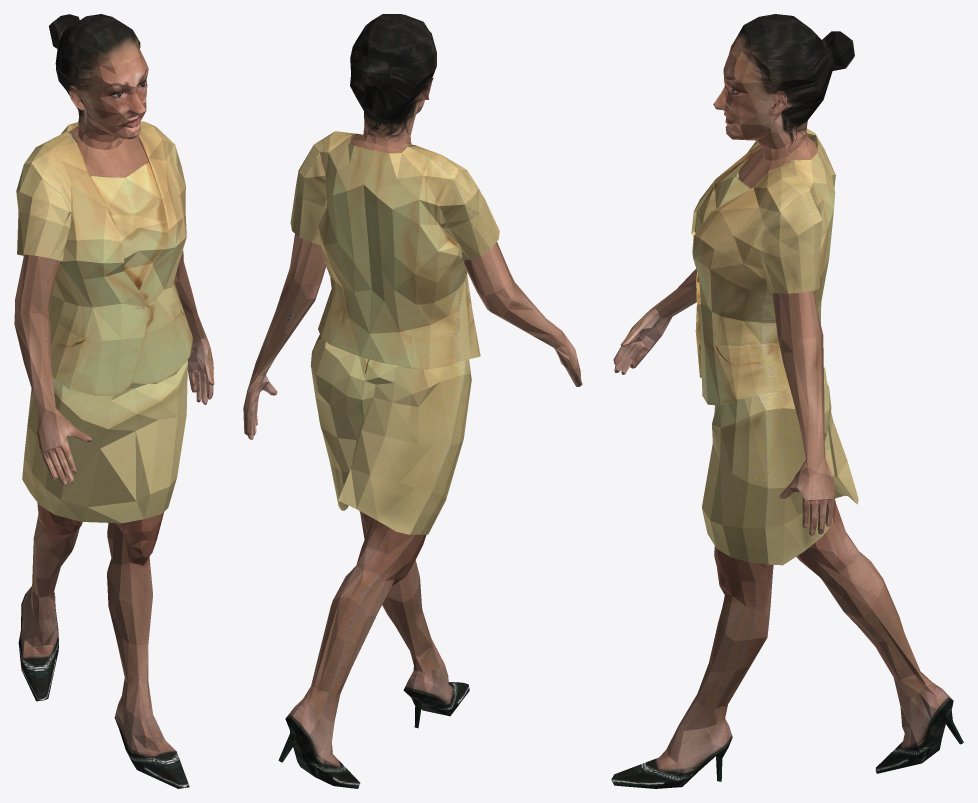
File: woman_yellow_dress.dae
3 views of the same model, side by side, from view 1: azimuth 30°, elevation 25°; view 2: azimuth 150°, elevation 25°; view 3: azimuth 270°, elevation 25° (orthographic). The views are drawn at different scales.
Visible parts, largest first — view 1: node; view 2: node; view 3: node.
Part boxes in pixels (x1,y1,x2,y2): node: [14, 14, 214, 788]; node: [243, 14, 582, 788]; node: [611, 14, 963, 788].
Bounding box in the file's own units: 619 × 1722 × 725.
1 material, 1 textured.
